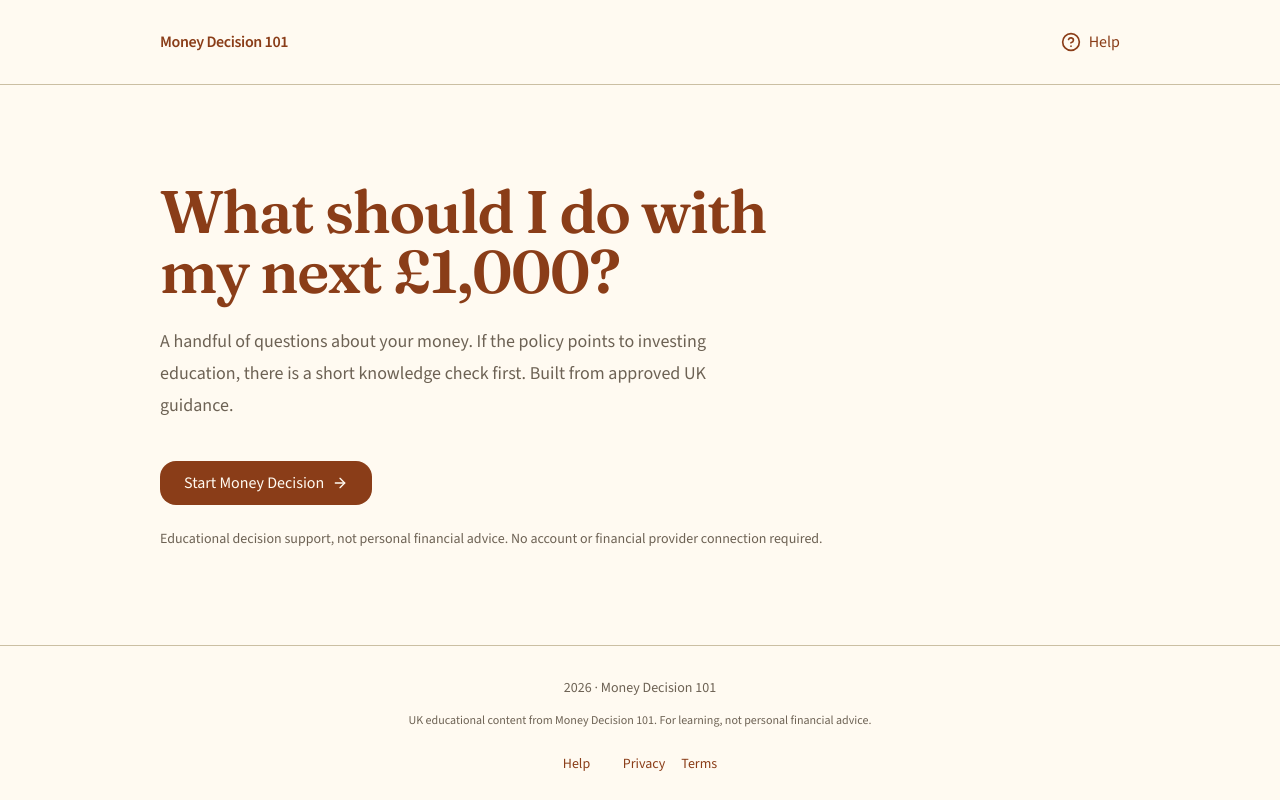
Money Decision journey › shows the engine-unavailable notice when the result carries an audit reason
This screenshot has width=1280, height=800.
Step 1. Click the button "Start Money Decision" → (266, 483), box [160,461,372,505]
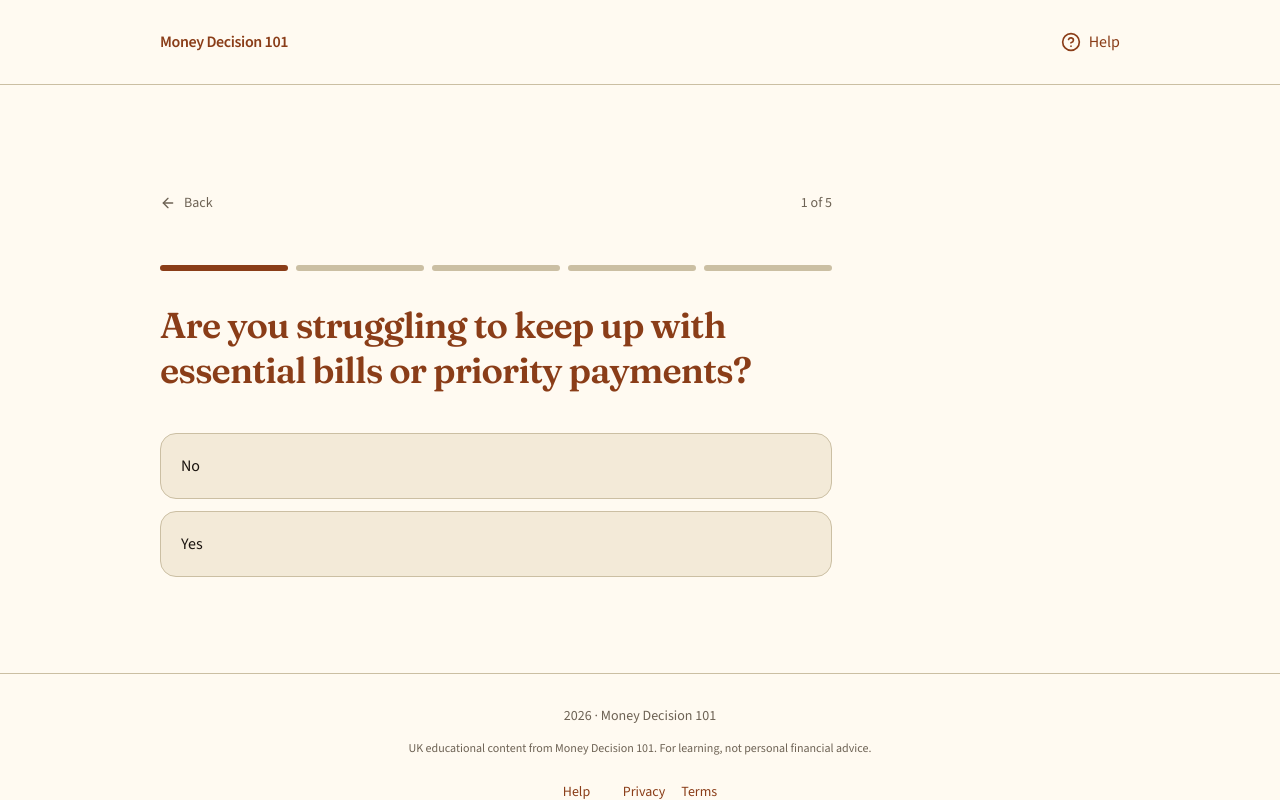
Step 2. Click the button "No" → (191, 466), box [160,433,832,499]
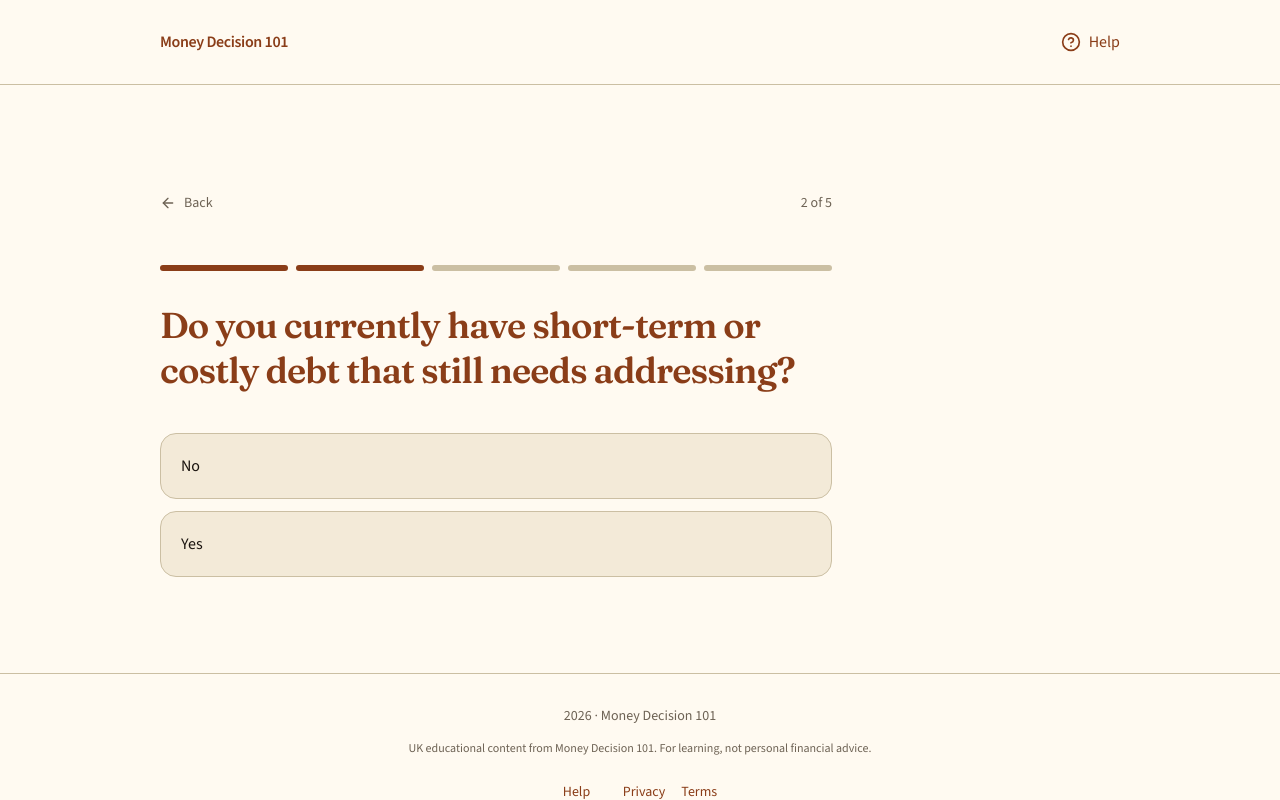
Step 3. Click the button "Yes" → (192, 544), box [160,511,832,577]
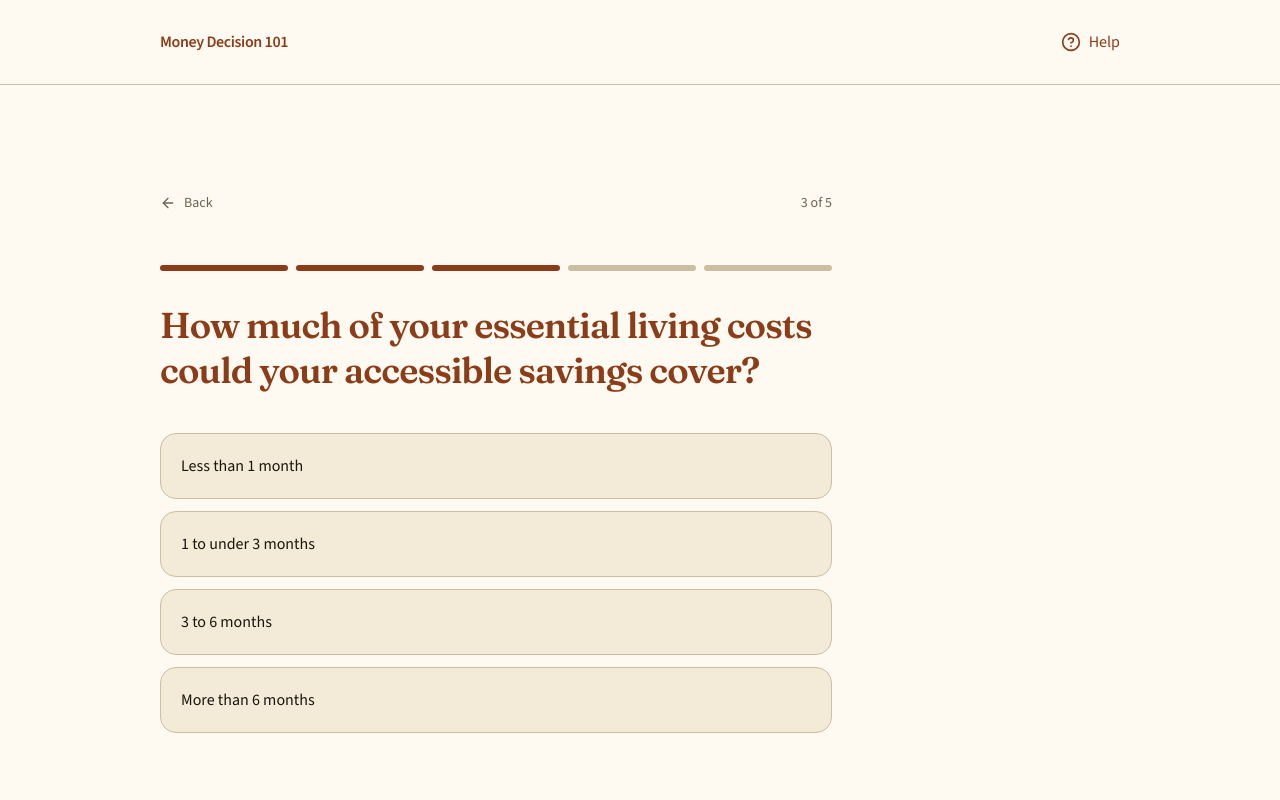
Step 4. Click the button "1 to under 3 months" → (248, 544), box [160,511,832,577]
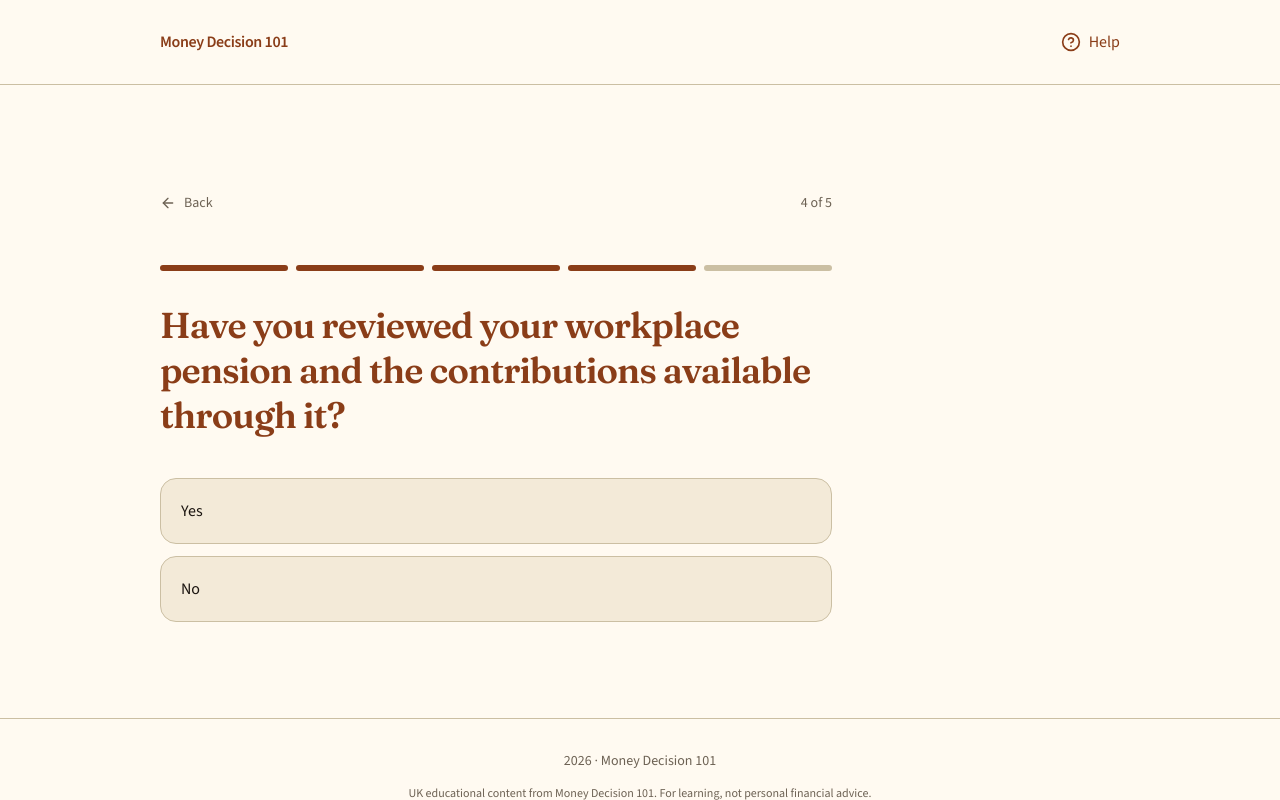
Step 5. Click the button "No" → (191, 588), box [160,556,832,622]
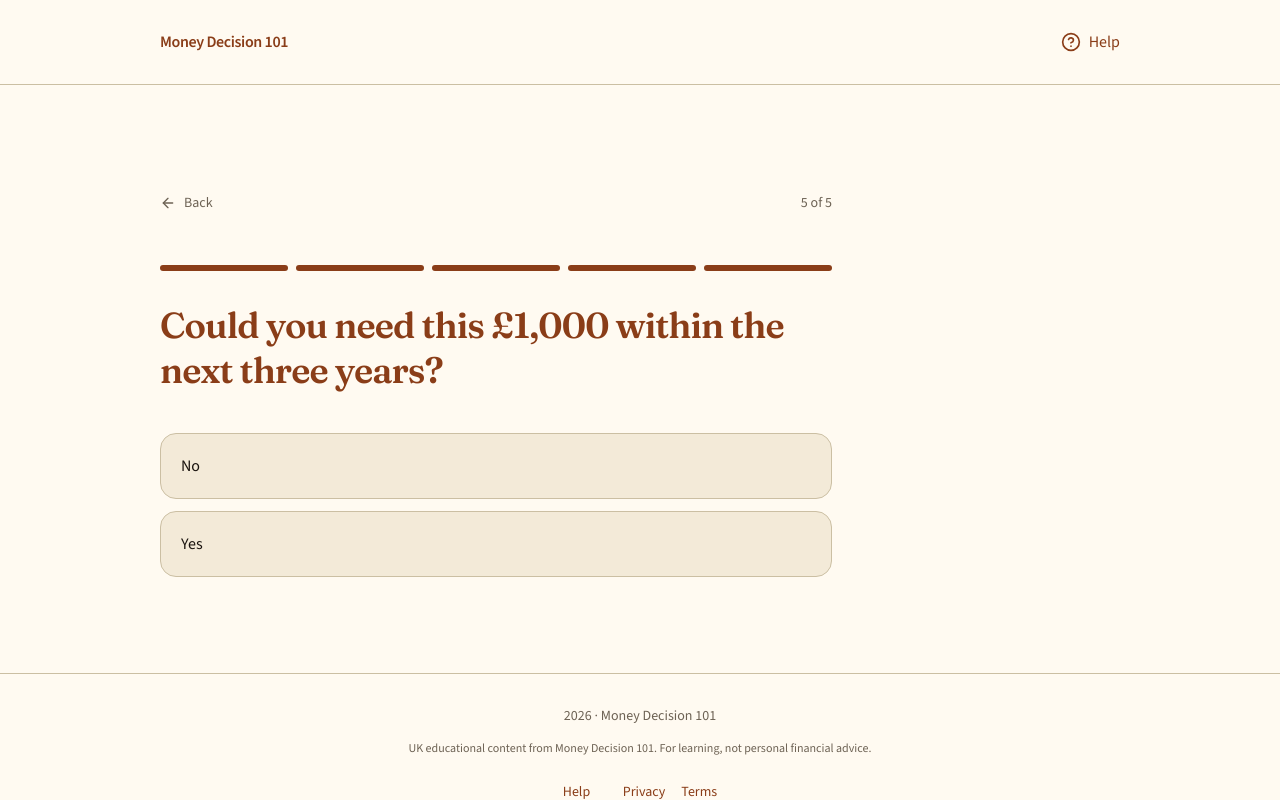
Step 6. Click the button "No" → (191, 466), box [160,433,832,499]
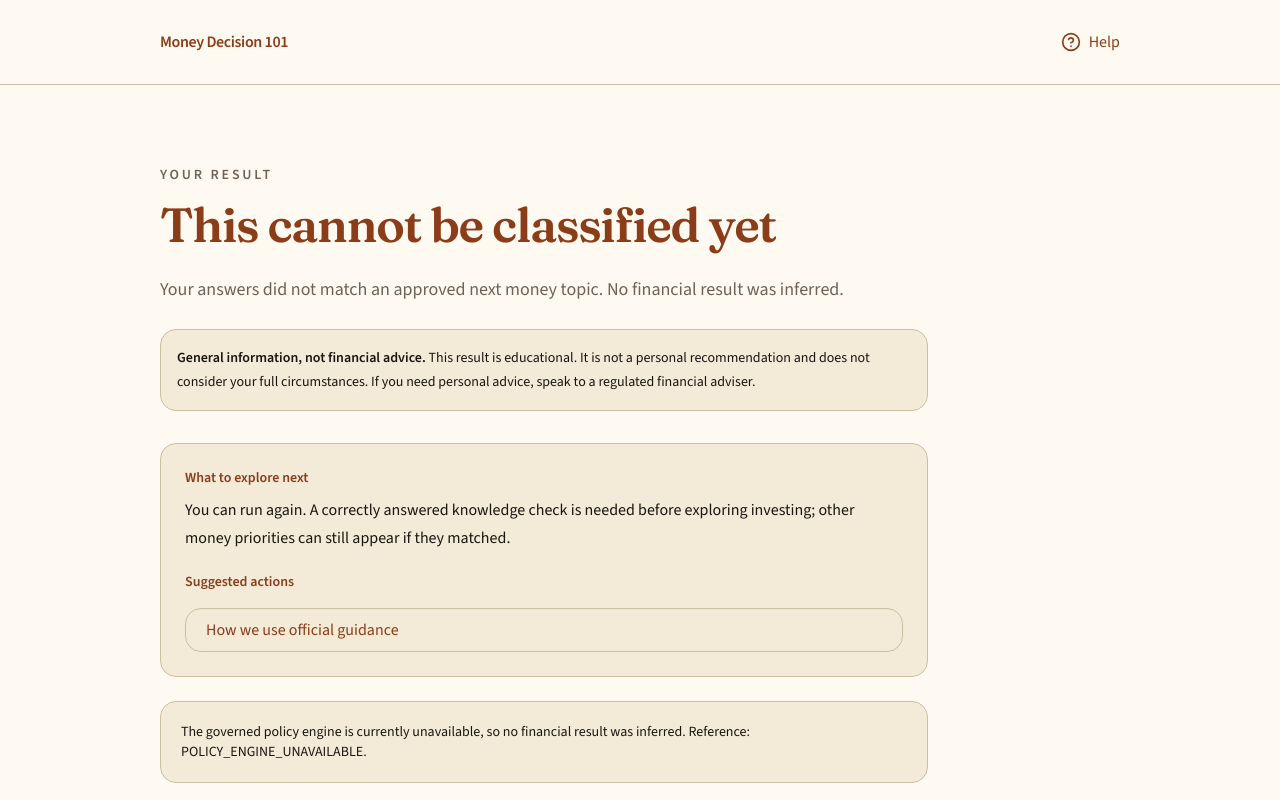
Now the text "Reference: POLICY_ENGINE_UNAVAILABLE" is shown, box [160,701,928,783]
Now the element with test id "result-disclaimer" is shown, box [160,329,928,411]
